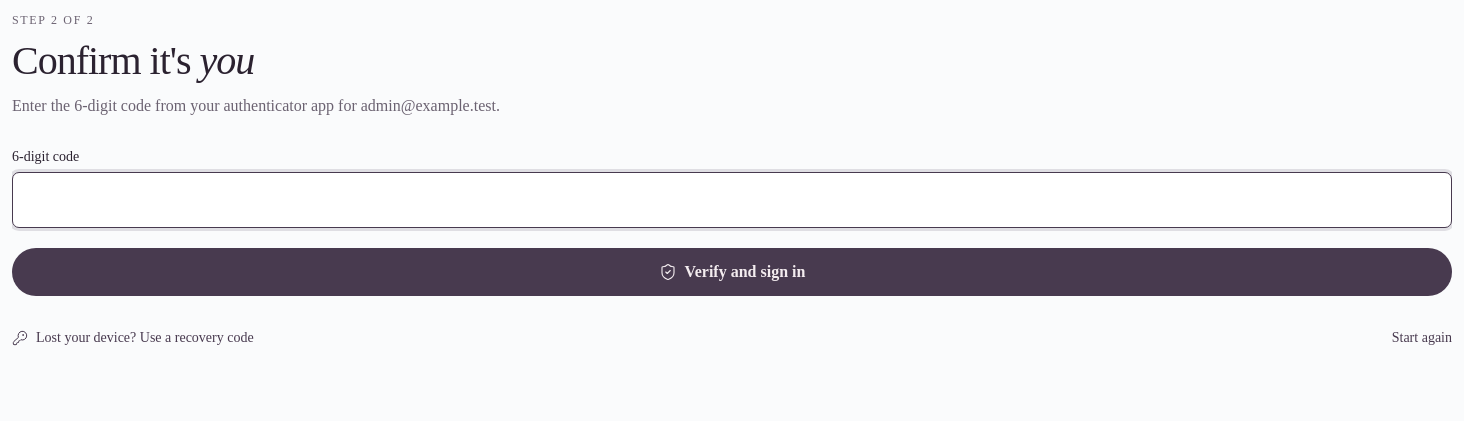
it: Admin TOTP verification › a rate limited code never enters the portal
The image size is (1464, 421).
Type "000000" into the field labelled "6-digit code".
click(732, 200); type("000000")  # box left=12, top=172, right=1452, bottom=228
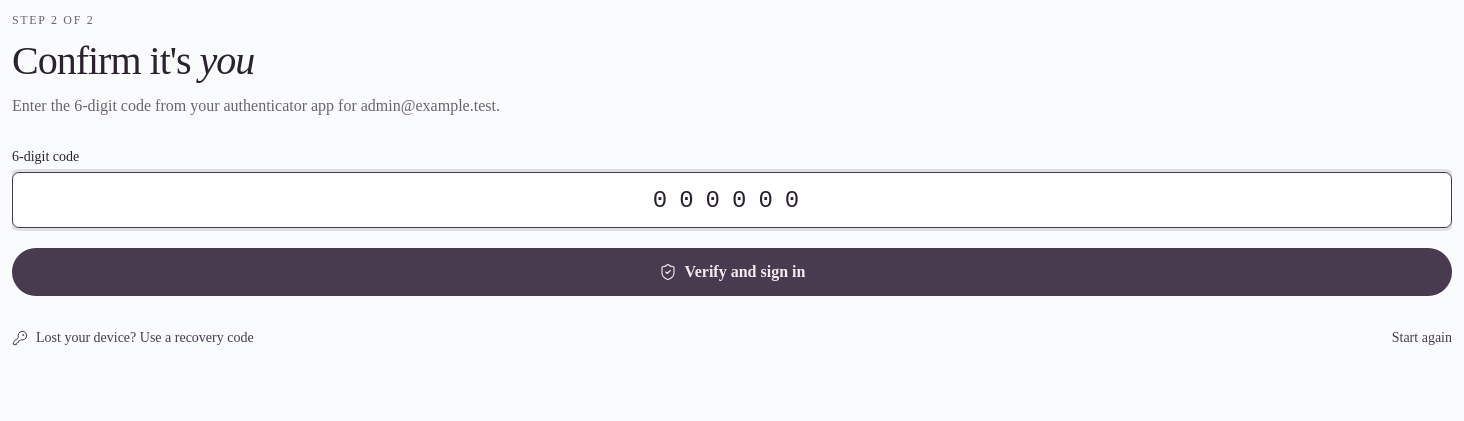
Click the button "Verify and sign in".
click(732, 272)  # box left=12, top=248, right=1452, bottom=296
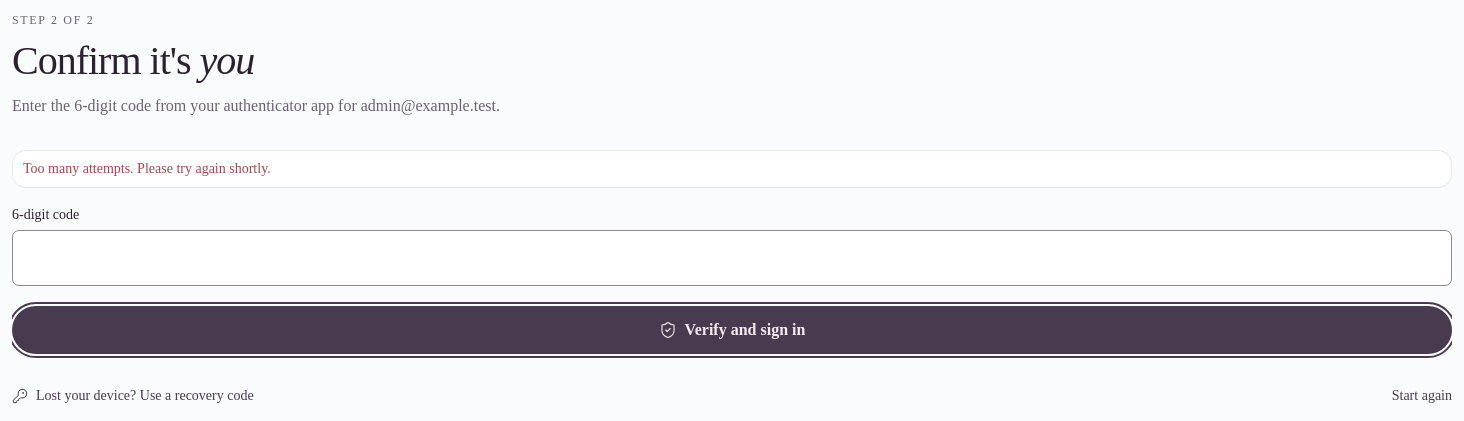
Check: the text "Too many attempts. Please try again shortly." is shown, box left=23, top=161, right=271, bottom=176
Check: the field labelled "6-digit code" is empty, box left=12, top=230, right=1452, bottom=286
